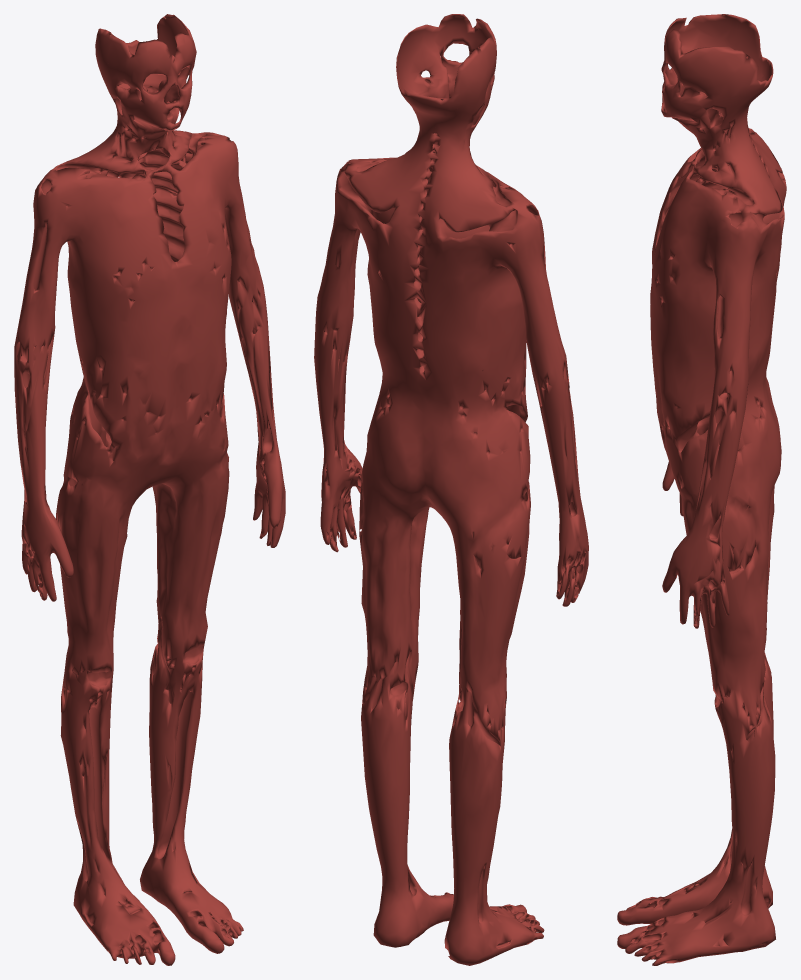
The model's file is pediatric_adolescent_female.muscular.LOD1.glb.
3 views of the same model, side by side, from view 1: azimuth 30°, elevation 25°; view 2: azimuth 150°, elevation 25°; view 3: azimuth 270°, elevation 25° (orthographic).
Visible parts, largest first — view 1: PEDIATRIC.ADOLESCENT.FEMALE.MUSCULAR.MUSCLE; view 2: PEDIATRIC.ADOLESCENT.FEMALE.MUSCULAR.MUSCLE; view 3: PEDIATRIC.ADOLESCENT.FEMALE.MUSCULAR.MUSCLE.
Part boxes in pixels (x1=…): PEDIATRIC.ADOLESCENT.FEMALE.MUSCULAR.MUSCLE: x1=14, y1=14, x2=285, y2=965; PEDIATRIC.ADOLESCENT.FEMALE.MUSCULAR.MUSCLE: x1=314, y1=14, x2=588, y2=965; PEDIATRIC.ADOLESCENT.FEMALE.MUSCULAR.MUSCLE: x1=617, y1=14, x2=786, y2=965.
Size of the model in its own units: 0.4584 by 1.58 by 0.2658.
